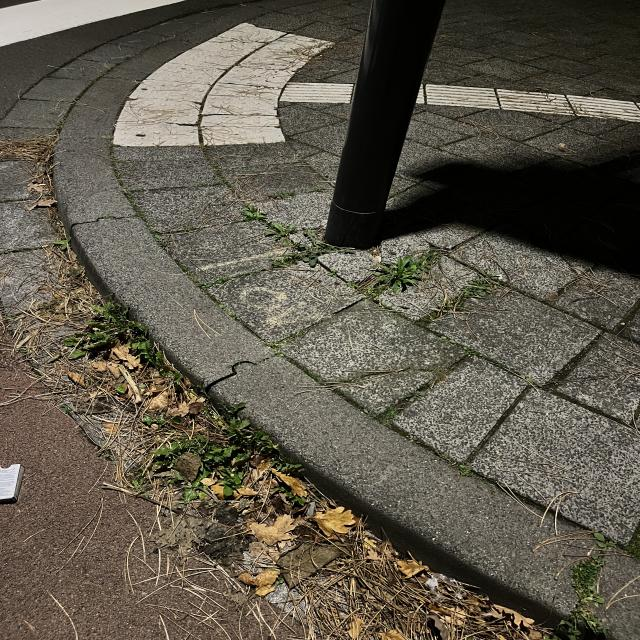leaves: (245, 509, 351, 566)
pavement: (0, 0, 639, 612)
weed: (217, 204, 354, 284), (85, 303, 182, 382), (497, 363, 540, 387)
weedling: (220, 304, 239, 319), (267, 346, 285, 360)
